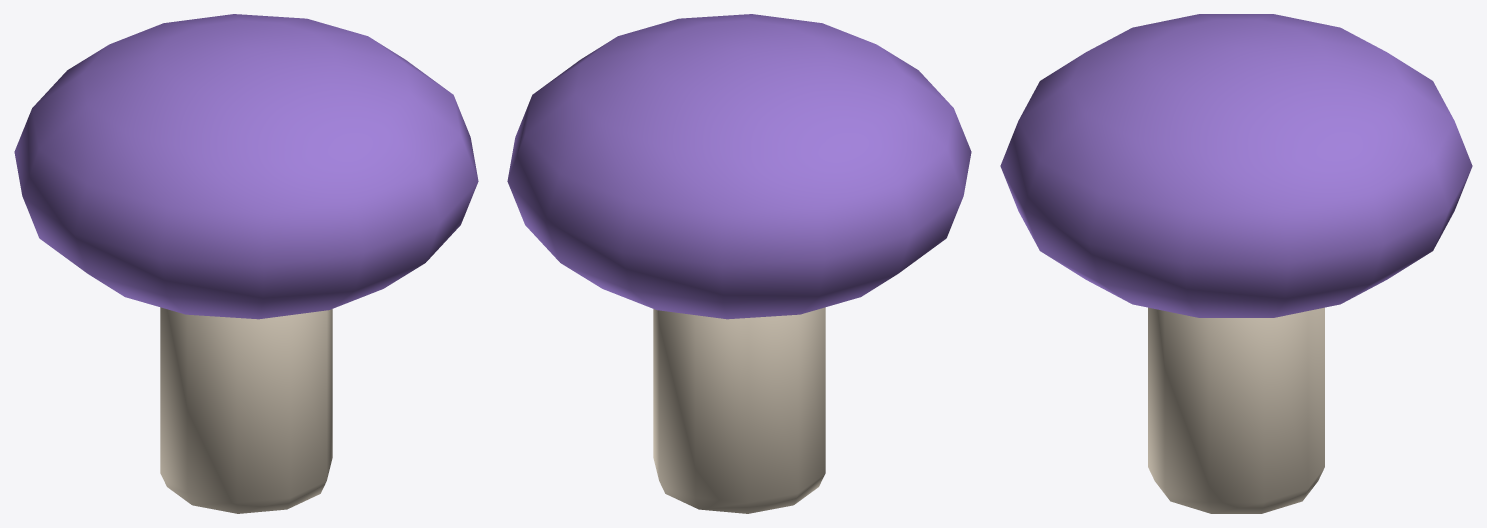
File: v_shroom.glb
The picture shows the model from 3 angles, left to right: view 1: azimuth 30°, elevation 25°; view 2: azimuth 150°, elevation 25°; view 3: azimuth 270°, elevation 25°; orthographic projection.
Visible parts, largest first — view 1: GenMushroom; view 2: GenMushroom; view 3: GenMushroom.
Boxes of the visible parts, box(x1,y1,x2,y2) form: GenMushroom: box(14, 14, 478, 513); GenMushroom: box(507, 14, 971, 513); GenMushroom: box(1000, 14, 1472, 513).
Size of the model in its own units: 0.7487 by 0.7872 by 0.768.
